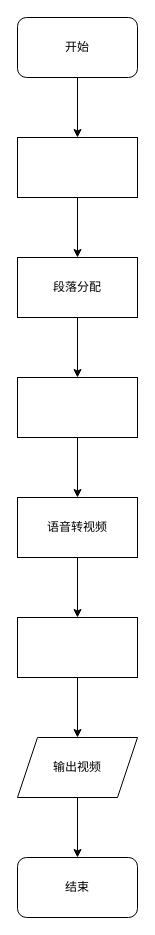
Image size: 155x935. Some labels were removed from this diagram. Each missing label, with the centre of its shape:
文本转语音: the point at 77,407
段落分割: the point at 77,167
视频拼接: the point at 77,647
